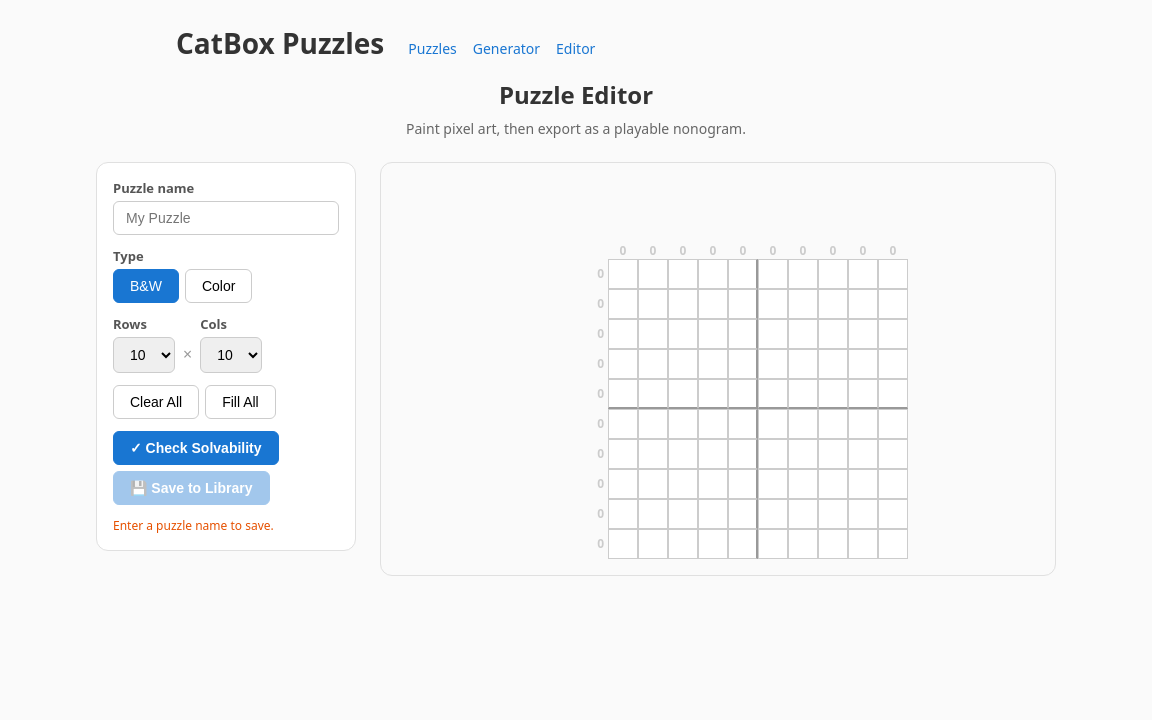
Scenario: EditorPage › grid resize › can change grid dimensions
Select "5" in the dropdown labelled "Rows" at (144, 355), box top-left (113, 337), bottom-right (175, 373)
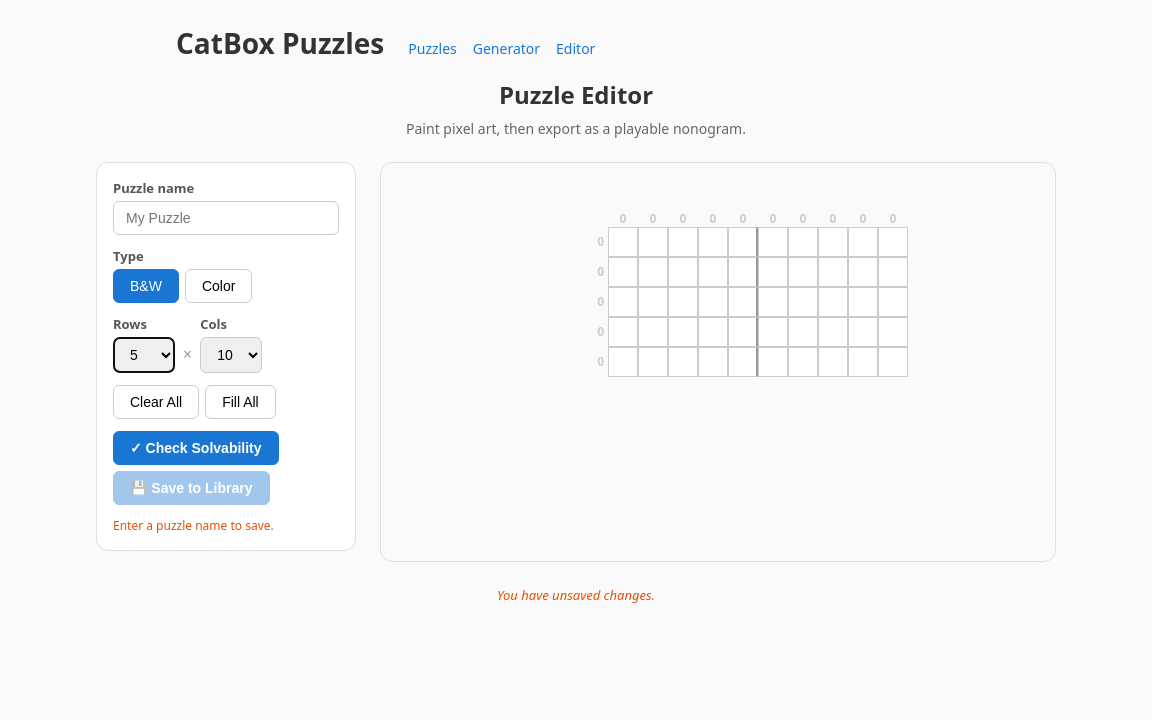
Select "5" in the dropdown labelled "Cols" at (231, 355), box top-left (200, 337), bottom-right (262, 373)
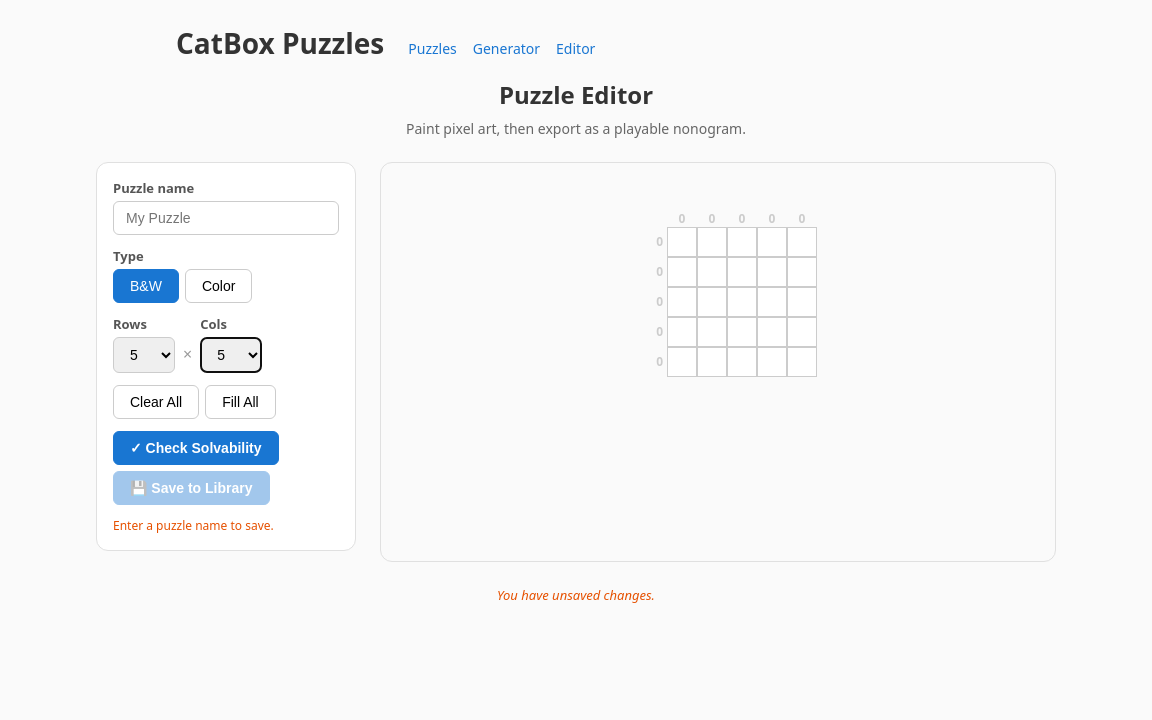
Expected: the number of cells is 25
